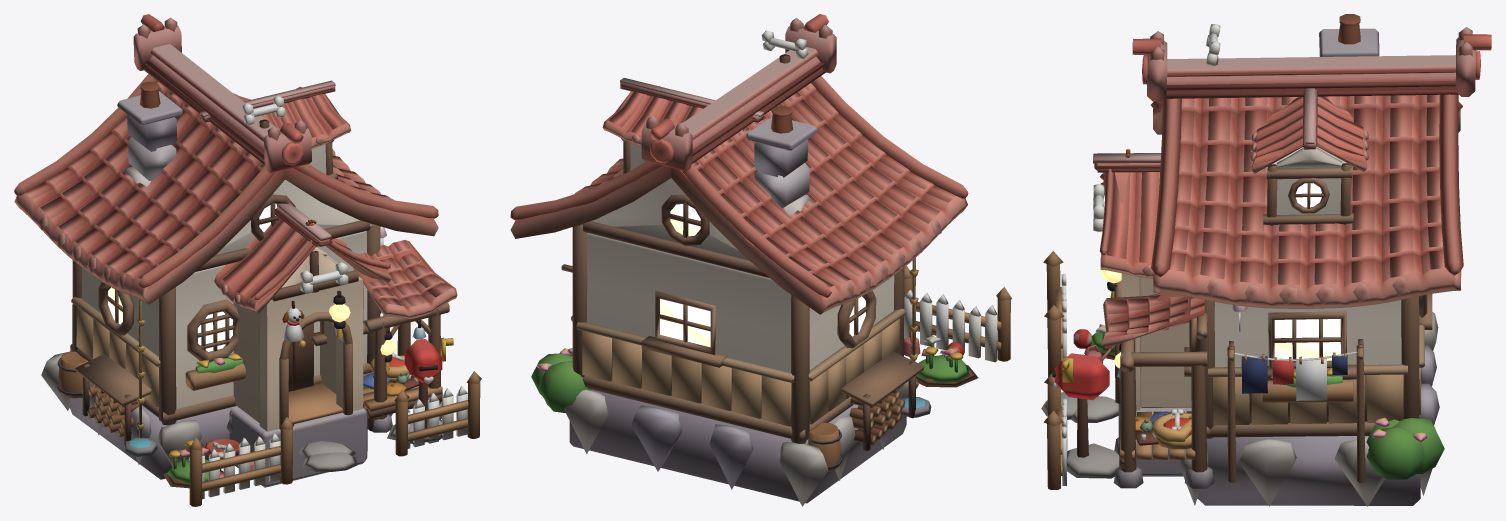
Rendered from chewyHouse-2.glb.
3 renders of one model, left to right at view 1: azimuth 30°, elevation 25°; view 2: azimuth 150°, elevation 25°; view 3: azimuth 270°, elevation 25°, orthographic. The views are drawn at different scales.
Visible parts, largest first — view 1: chewyHouse, window_glow; view 2: chewyHouse, window_glow; view 3: chewyHouse, window_glow.
Part boxes in pixels (left/top/right/bottom): chewyHouse: left=14, top=14, right=481, bottom=506; window_glow: left=108, top=203, right=396, bottom=355; chewyHouse: left=510, top=14, right=1011, bottom=506; window_glow: left=660, top=204, right=865, bottom=347; chewyHouse: left=1041, top=14, right=1491, bottom=506; window_glow: left=1101, top=183, right=1340, bottom=368.
Bounding box in the file's own units: 3.14 × 3.5 × 3.49.
